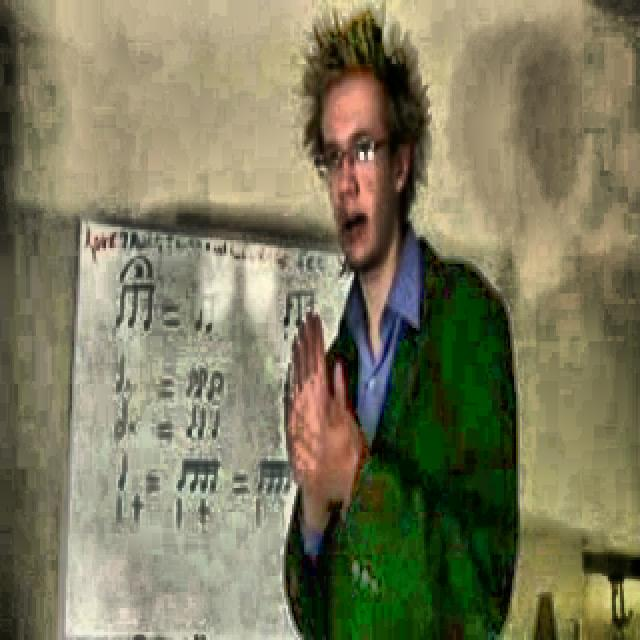F: (262, 4, 524, 632)
